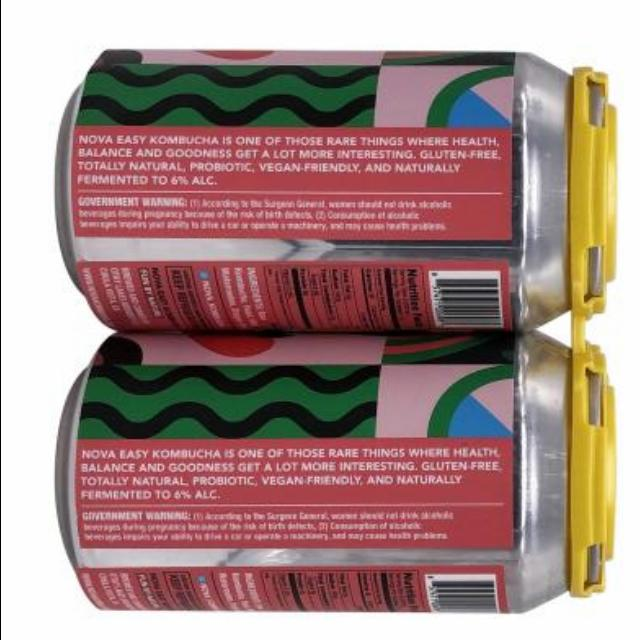metal: (60, 49, 617, 328), (65, 331, 616, 609)
